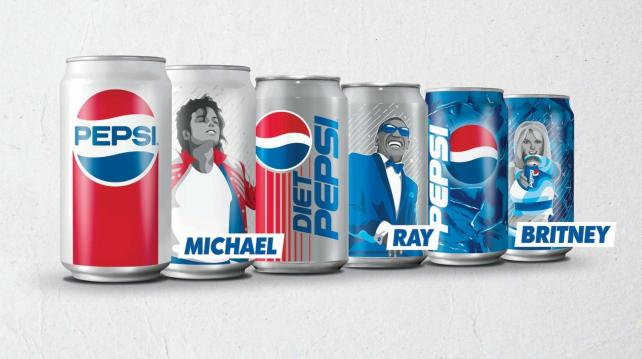pepsi: (71, 87, 159, 183), (442, 119, 498, 182), (255, 106, 309, 170)
